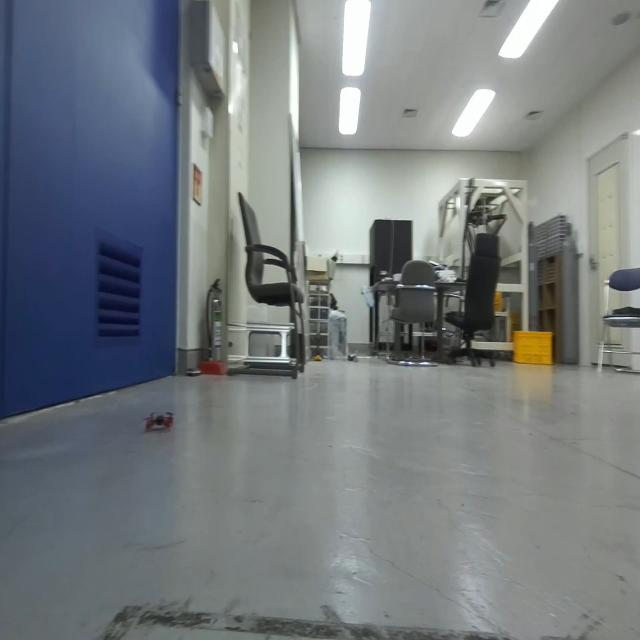crazyflie: (143, 407, 178, 436)
